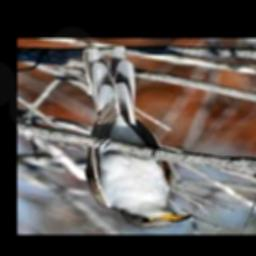Cuckoo: (83, 48, 191, 228)
